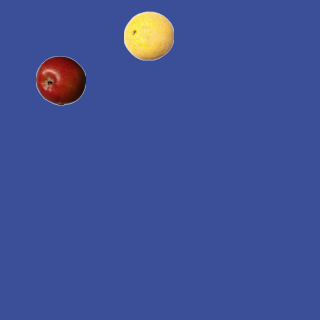Apple Braeburn: (35, 55, 85, 105)
Cantaloupe 1: (123, 10, 173, 60)
